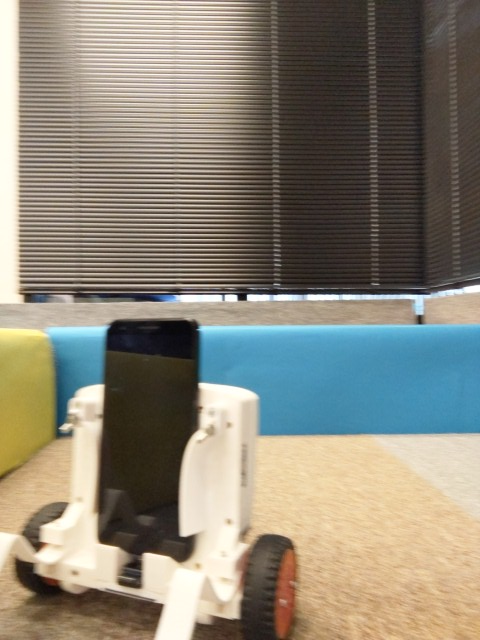f: (1, 307, 303, 640)
